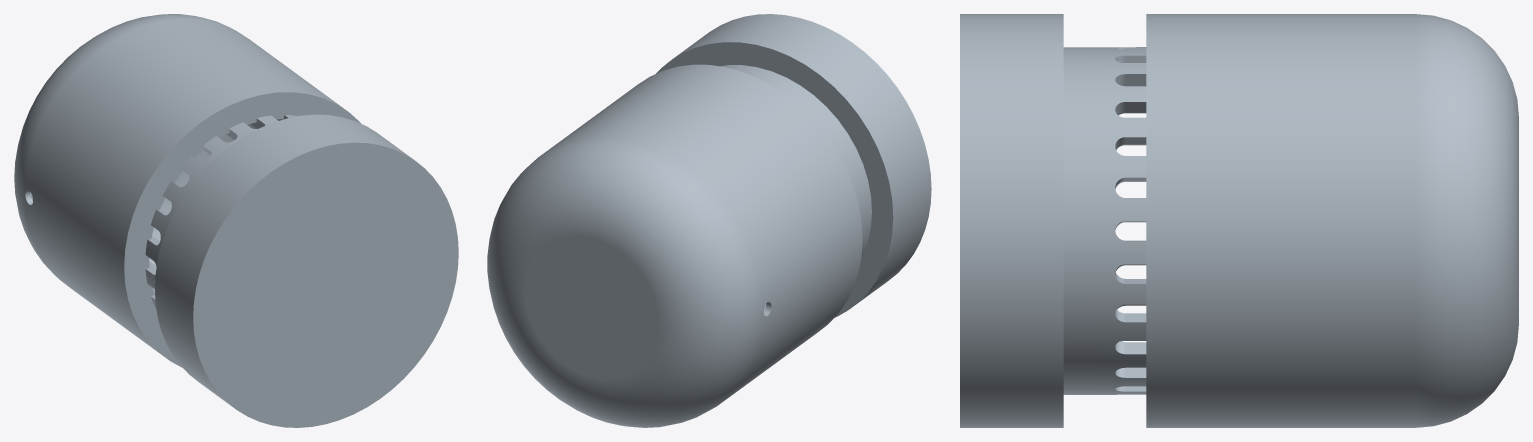
Rendered from house opening v3.gltf.
3 renders of one model, left to right at view 1: azimuth 30°, elevation 25°; view 2: azimuth 150°, elevation 25°; view 3: azimuth 270°, elevation 25°, orthographic. The views are drawn at different scales.
Size of the model in its own units: 10 by 10 by 13.5.
